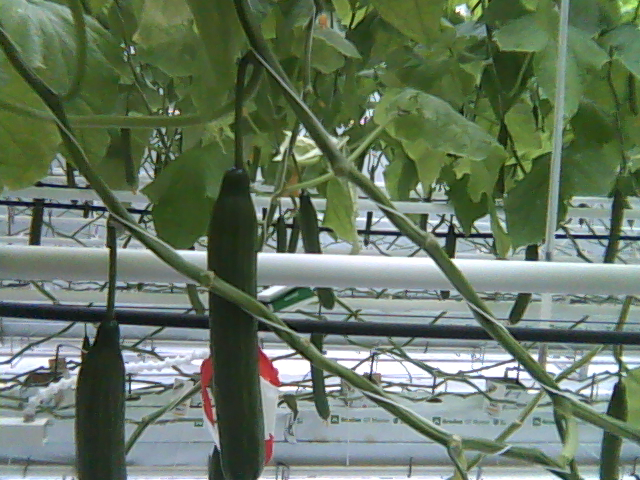concombre: (205, 164, 267, 480), (74, 312, 130, 480)
